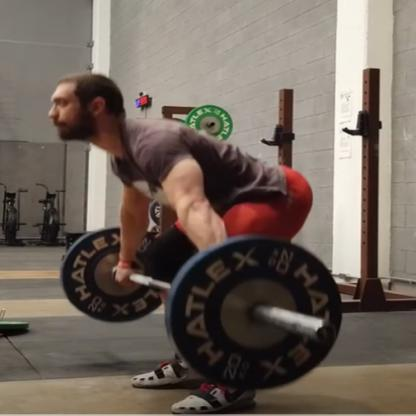barbell: (61, 224, 343, 392)
